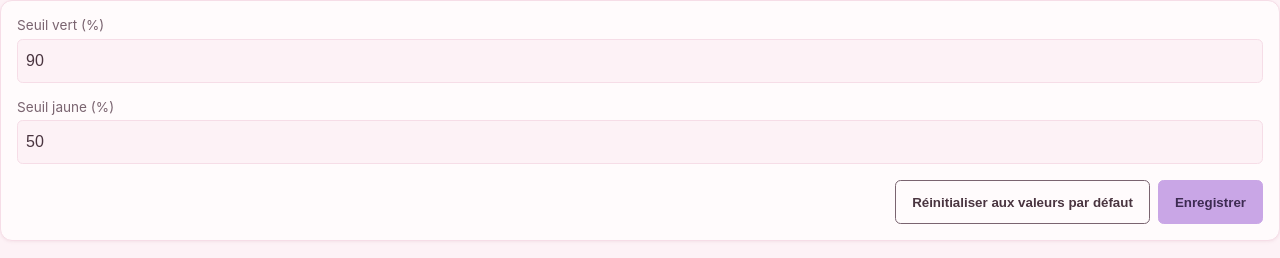
Test: ColorThresholdsForm (US-006) › réinitialise aux valeurs par défaut (scénario 4)
Click the button "Réinitialiser aux valeurs par défaut". click: (1022, 202)
box: [895, 180, 1150, 224]
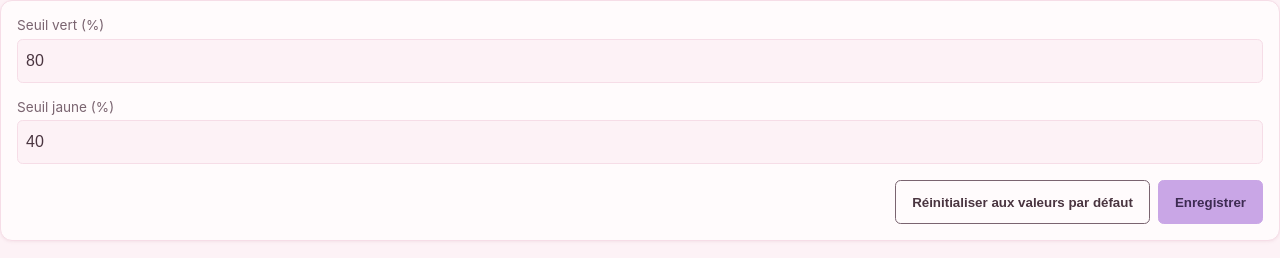
Expected: the number field labelled "Seuil vert (%)" holds "80", [17, 39, 1263, 83]
Expected: the number field labelled "Seuil jaune (%)" holds "40", [17, 120, 1263, 164]
